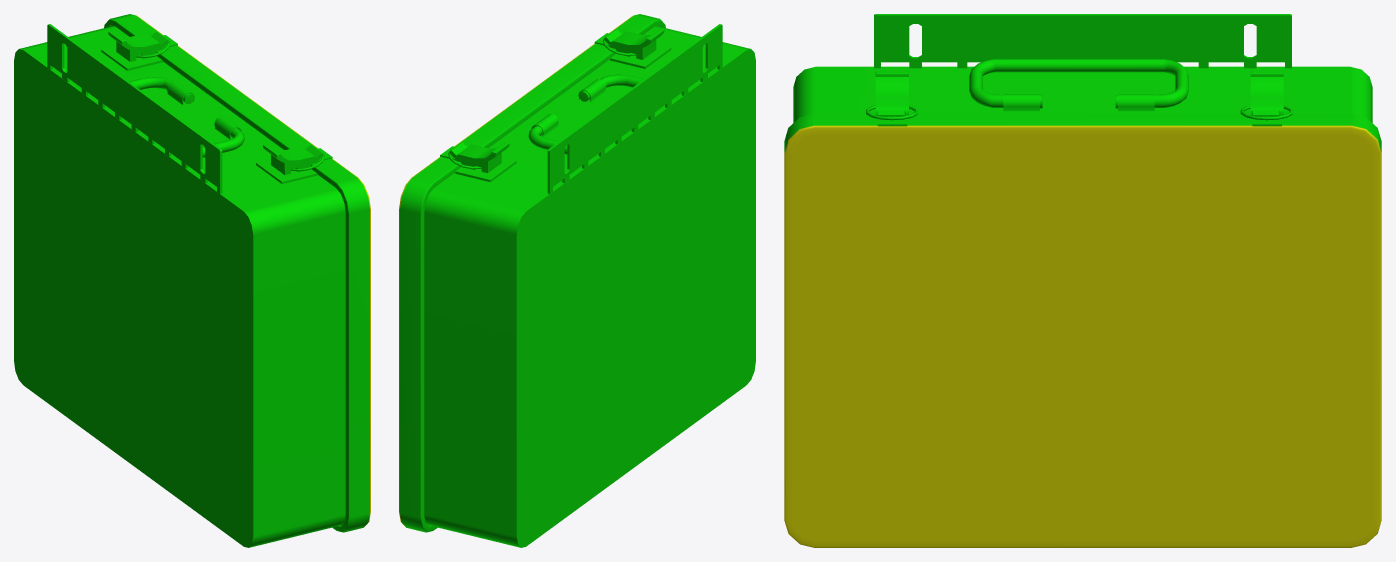
The model's file is Medkit.fbx.
3 renders of one model, left to right at view 1: azimuth 30°, elevation 25°; view 2: azimuth 150°, elevation 25°; view 3: azimuth 270°, elevation 25°, orthographic. The views are drawn at different scales.
Parts seen in each view (by area): view 1: Medkit; view 2: Medkit; view 3: Medkit.
Boxes of the visible parts, x1,y1,x2,y2 form: Medkit: (14, 14, 370, 547); Medkit: (399, 14, 755, 547); Medkit: (784, 14, 1381, 547).
Bounding box in the file's own units: 0.3583 × 1.15 × 1.33.
